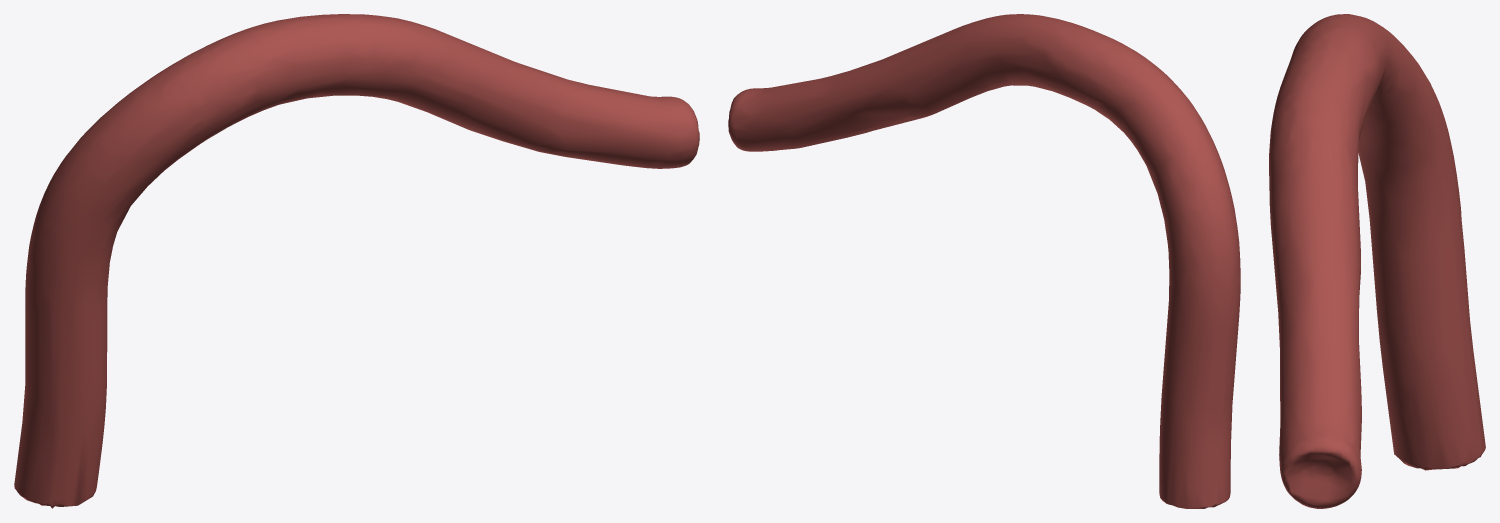
The model's file is FMA4694.glb.
The picture shows the model from 3 angles, left to right: view 1: azimuth 30°, elevation 25°; view 2: azimuth 150°, elevation 25°; view 3: azimuth 270°, elevation 25°; orthographic projection. The views are drawn at different scales.
Visible parts, largest first — view 1: FMA4694; view 2: FMA4694; view 3: FMA4694.
Boxes of the visible parts, bbox=[...] form: FMA4694: bbox=[14, 14, 699, 508]; FMA4694: bbox=[728, 14, 1240, 508]; FMA4694: bbox=[1269, 14, 1485, 508].
Bounding box in the file's own units: 0.0691 × 0.0493 × 0.0188.
